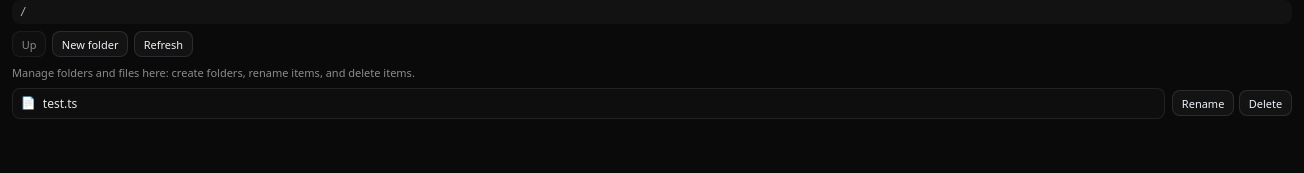
Test: WorkspaceFilePanel - Error Clearing on Success › should clear error when renameEntry succeeds after previous error
The image size is (1304, 173).
Expected: the text "test.ts" is shown, [43, 95, 77, 112]
Click the button "Rename". click: (1203, 103)
box: [1172, 90, 1234, 116]
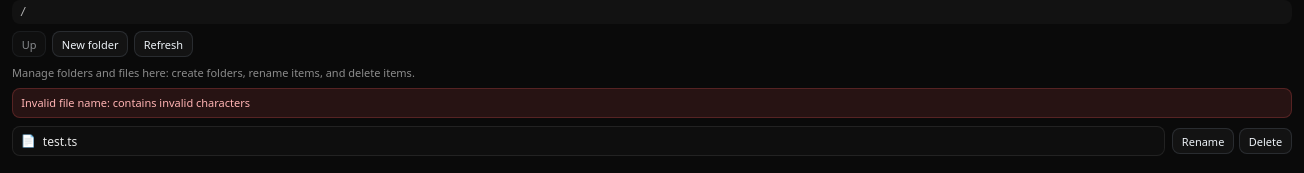
Expected: the text "Invalid file name: contains invalid characters" is shown, [12, 88, 1292, 118]
Click the button "Rename". click: (1203, 141)
box: [1172, 128, 1234, 154]
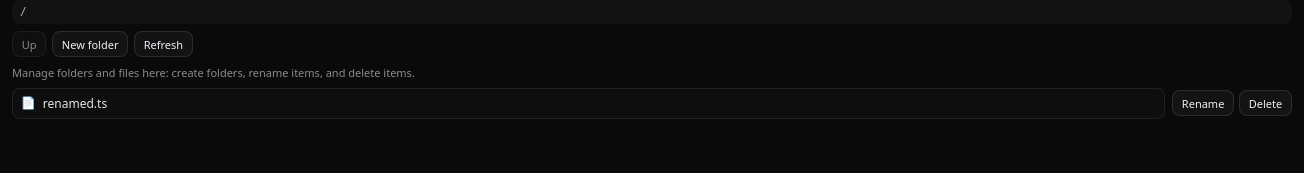
Expected: the text "Invalid file name" is gone
